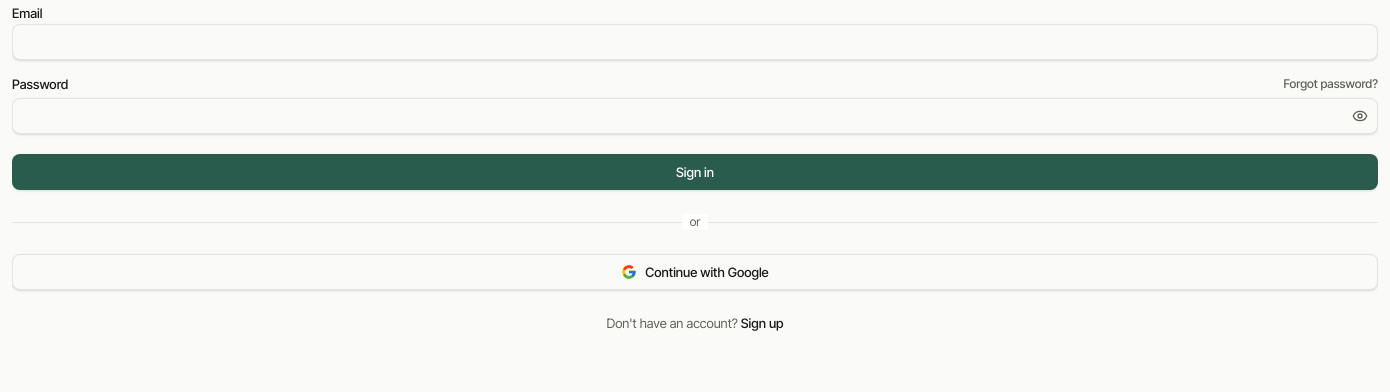
Test: SignInForm › shows validation error for invalid email format
The width and height of the screenshot is (1390, 392).
Type "not-an-email" into the field labelled "Email" at (695,42), box 12,24 -> 1378,60
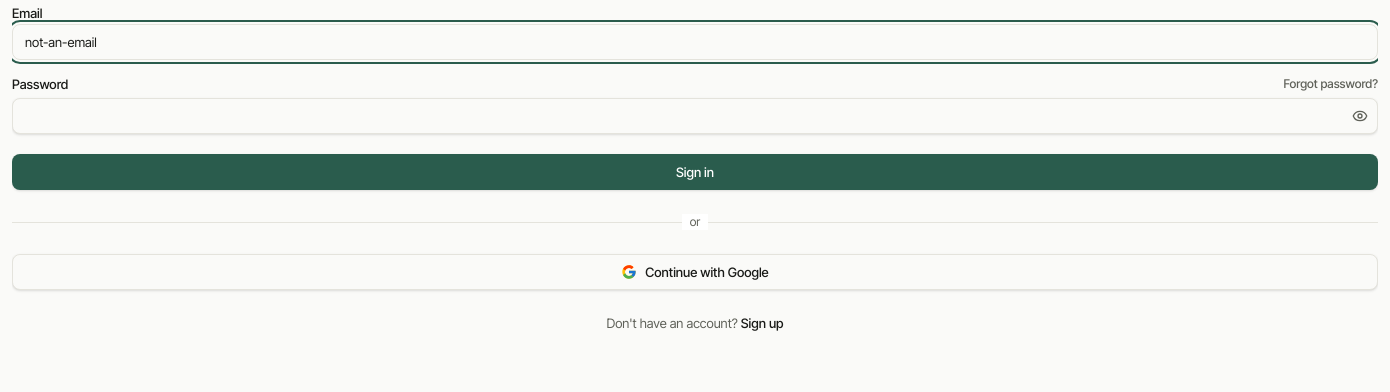
Click the button "Sign in" at (695,172), box 12,154 -> 1378,190
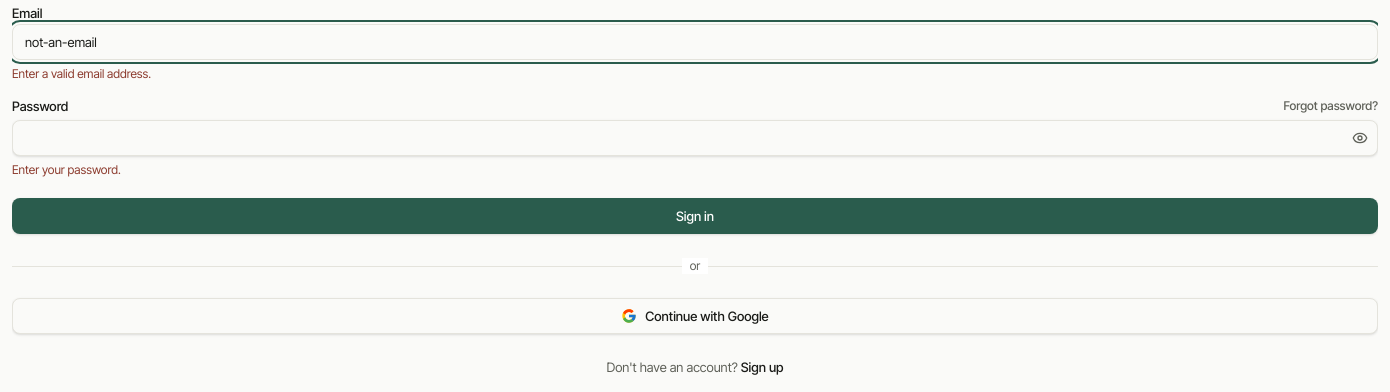
Check: the text "Enter a valid email address." is shown, box 12,66 -> 151,81
